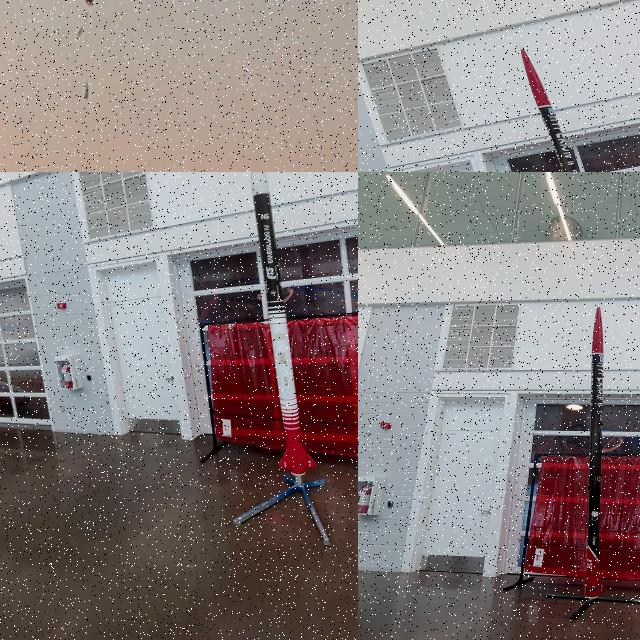Rocket: (250, 172, 316, 474), (519, 42, 578, 172), (581, 301, 606, 598), (84, 82, 89, 98)
